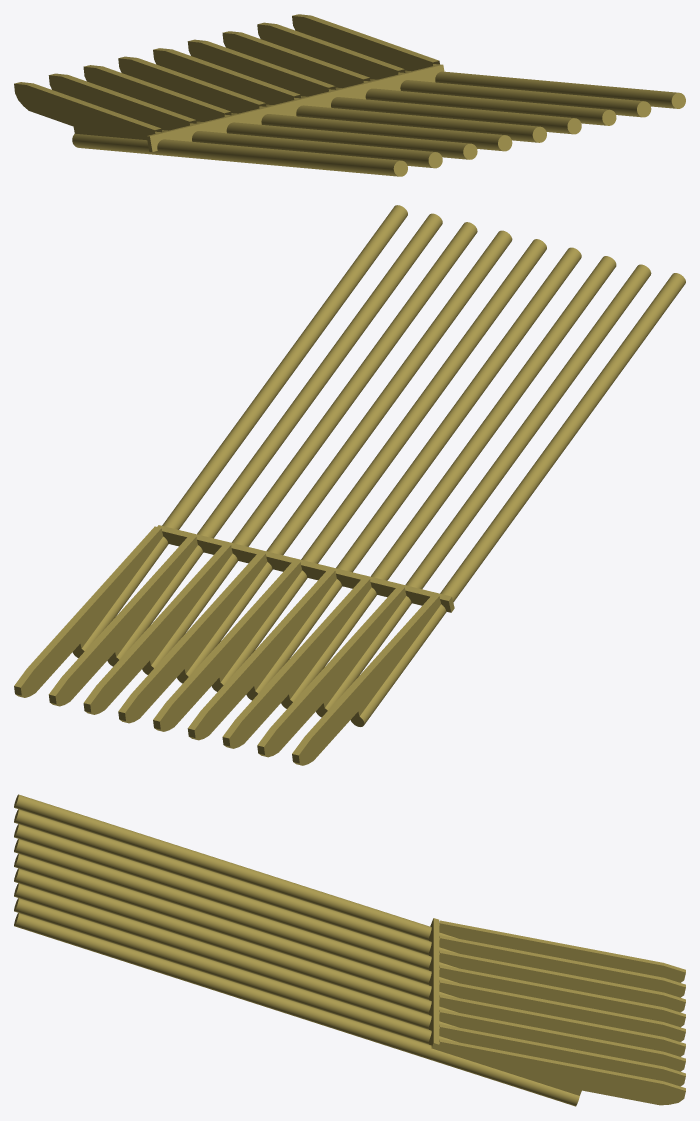
3 views of the same model, one above another, from view 1: azimuth 30°, elevation 25°; view 2: azimuth 150°, elevation 25°; view 3: azimuth 270°, elevation 25° (orthographic). The views are drawn at different scales.
Visible parts, largest first — view 1: Mesh2 Group4 Group2 Group1 Model, Mesh28 Group38 Model, Mesh3 Group5 Group2 Group1 Model, Mesh24 Group33 Group30 Group1 Model, Mesh9 Group13 Group10 Group1 Model, Mesh11 Group16 Group14 Group1 Model, Mesh26 Group36 Group34 Group1 Model, Mesh15 Group21 Group18 Group1 Model, Mesh17 Group24 Group22 Group1 Model, Mesh5 Group8 Group6 Group1 Model, Mesh19 Group27 Group26 Group1 Model, Mesh12 Group17 Group14 Group1 Model (+8 smaller); view 2: Mesh2 Group4 Group2 Group1 Model, Mesh5 Group8 Group6 Group1 Model, Mesh9 Group13 Group10 Group1 Model, Mesh19 Group27 Group26 Group1 Model, Mesh24 Group33 Group30 Group1 Model, Mesh11 Group16 Group14 Group1 Model, Mesh26 Group36 Group34 Group1 Model, Mesh17 Group24 Group22 Group1 Model, Mesh15 Group21 Group18 Group1 Model, Mesh22 Group31 Group30 Group1 Model, Mesh7 Group11 Group10 Group1 Model, Mesh21 Group29 Group26 Group1 Model (+7 smaller); view 3: Mesh17 Group24 Group22 Group1 Model, Mesh2 Group4 Group2 Group1 Model, Mesh11 Group16 Group14 Group1 Model, Mesh5 Group8 Group6 Group1 Model, Mesh9 Group13 Group10 Group1 Model, Mesh24 Group33 Group30 Group1 Model, Mesh26 Group36 Group34 Group1 Model, Mesh15 Group21 Group18 Group1 Model, Mesh19 Group27 Group26 Group1 Model, Mesh16 Group23 Group22 Group1 Model, Mesh3 Group5 Group2 Group1 Model, Mesh14 Group20 Group18 Group1 Model (+8 smaller).
Boxes of the visible parts, x1,y1,x2,y2 form: Mesh2 Group4 Group2 Group1 Model: (72,133,407,176); Mesh28 Group38 Model: (146,64,444,151); Mesh3 Group5 Group2 Group1 Model: (14,82,161,133); Mesh24 Group33 Group30 Group1 Model: (196,121,477,159); Mesh9 Group13 Group10 Group1 Model: (335,87,616,125); Mesh11 Group16 Group14 Group1 Model: (231,113,512,151); Mesh26 Group36 Group34 Group1 Model: (370,79,651,117); Mesh15 Group21 Group18 Group1 Model: (266,104,546,142); Mesh17 Group24 Group22 Group1 Model: (405,70,685,108); Mesh5 Group8 Group6 Group1 Model: (301,96,581,134); Mesh19 Group27 Group26 Group1 Model: (162,130,442,168); Mesh12 Group17 Group14 Group1 Model: (118,56,266,108); Mesh2 Group4 Group2 Group1 Model: (350,273,685,726); Mesh5 Group8 Group6 Group1 Model: (177,230,512,683); Mesh9 Group13 Group10 Group1 Model: (142,222,477,674); Mesh19 Group27 Group26 Group1 Model: (316,264,651,717); Mesh24 Group33 Group30 Group1 Model: (281,256,616,708); Mesh11 Group16 Group14 Group1 Model: (246,247,581,700); Mesh26 Group36 Group34 Group1 Model: (107,213,442,666); Mesh17 Group24 Group22 Group1 Model: (72,205,407,657); Mesh15 Group21 Group18 Group1 Model: (211,239,546,691); Mesh22 Group31 Group30 Group1 Model: (222,577,370,748); Mesh7 Group11 Group10 Group1 Model: (83,543,231,714); Mesh21 Group29 Group26 Group1 Model: (257,585,405,757); Mesh17 Group24 Group22 Group1 Model: (14,913,579,1106); Mesh2 Group4 Group2 Group1 Model: (14,794,457,940); Mesh11 Group16 Group14 Group1 Model: (14,839,457,985); Mesh5 Group8 Group6 Group1 Model: (14,868,457,1014); Mesh9 Group13 Group10 Group1 Model: (14,883,458,1029); Mesh24 Group33 Group30 Group1 Model: (14,824,457,970); Mesh26 Group36 Group34 Group1 Model: (14,898,457,1044); Mesh15 Group21 Group18 Group1 Model: (14,853,458,999); Mesh19 Group27 Group26 Group1 Model: (14,809,457,955); Mesh16 Group23 Group22 Group1 Model: (439,1039,685,1105); Mesh3 Group5 Group2 Group1 Model: (439,920,685,982); Mesh14 Group20 Group18 Group1 Model: (439,979,685,1041).
Bounding box in the file's own units: 44634 × 31638 × 100150.
